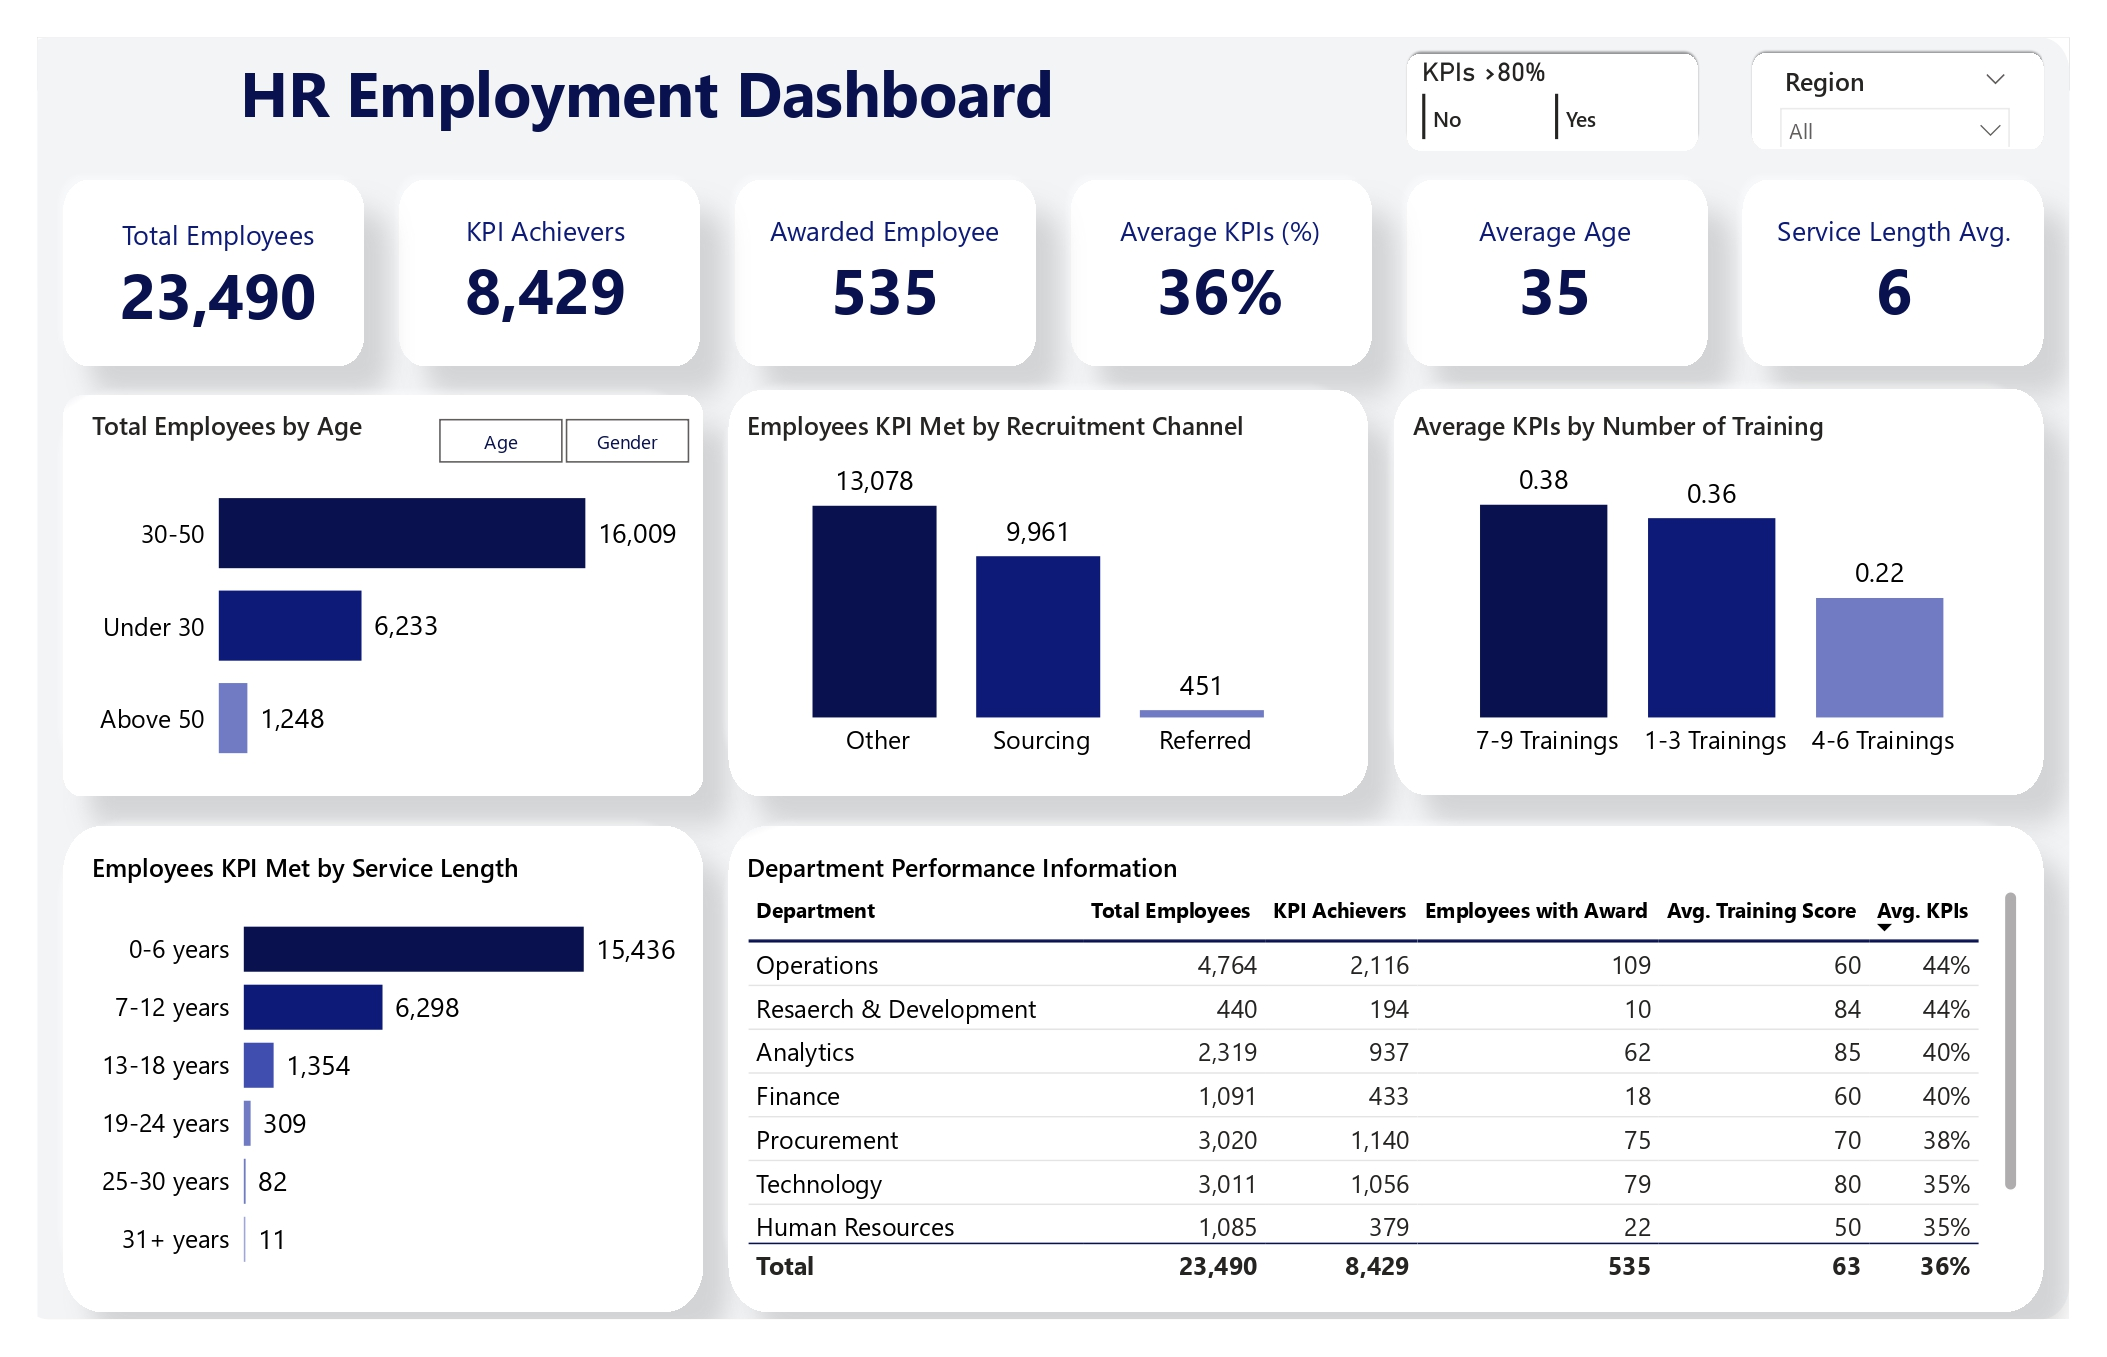

Layout of this report page (visuals, bound fields, positions):
{"tool":"powerbi","page":{"name":"Page 1","canvas":[1300,820],"ordinal":0},"visuals":[{"type":"barChart","fields":{"Category":["HR DATA CLEAN.Age Group"],"Y":["All Measures.Total Employees"]},"box":[29.8,237.1,384.7,252],"z":0},{"type":"slicer","fields":{"Values":["Employee Demographic.Employee Demographic"]},"box":[231.1,237.1,210.2,41.7],"z":1000},{"type":"tableEx","title":"Department Performance Information","fields":{"Values":["HR DATA CLEAN.Department","All Measures.Total Employees","All Measures.Employees with KPI>80%","All Measures.Employees with Award","All Measures.Average Training Score","All Measures.Average KPIs"]},"box":[448.8,520.3,823,283.3],"z":2000},{"type":"columnChart","title":"Employees KPI Met by Recruitment Channel","fields":{"Category":["HR DATA CLEAN.Recruitment Channel"],"Y":["All Measures.Total Employees"]},"box":[448.8,237.1,387.6,232.6],"z":3000},{"type":"barChart","title":"Employees KPI Met by Service Length","fields":{"Category":["HR DATA CLEAN.Service Length Range"],"Y":["All Measures.Total Employees"]},"box":[29.8,520.3,384.7,283.3],"z":4000},{"type":"columnChart","title":"Average KPIs by Number of Training ","fields":{"Category":["HR DATA CLEAN.No Training Range"],"Y":["Avg(HR DATA CLEAN.KPIs Met>80%)"]},"box":[875.2,237.1,396.6,232.6],"z":5000},{"type":"cardVisual","fields":{"Data":["All Measures.Total Employees"]},"box":[29.8,95.4,171.5,113.3],"z":6000},{"type":"cardVisual","fields":{"Data":["All Measures.Employees with KPI>80%"]},"box":[235.6,89.5,178.9,119.3],"z":7000},{"type":"cardVisual","fields":{"Data":["All Measures.Employees with Award"]},"box":[448.8,89.5,186.4,119.3],"z":8000},{"type":"cardVisual","fields":{"Data":["All Measures.Average KPIs (%)"]},"box":[666.4,89.5,181.9,119.3],"z":9000},{"type":"cardVisual","fields":{"Data":["All Measures.Average Age"]},"box":[881.1,89.5,180.4,119.3],"z":10000},{"type":"cardVisual","fields":{"Data":["All Measures.Avg. Length of Service"]},"box":[1095.8,89.5,184.9,119.3],"z":11000},{"type":"slicer","fields":{"Values":["HR DATA CLEAN.Region"]},"box":[1104.8,11.9,167,58.1],"z":12000},{"type":"card","fields":{"Values":["All Measures.InteractiveTitle"]},"box":[16.4,0,758.9,70.1],"z":13000},{"type":"advancedSlicerVisual","fields":{"Values":["HR DATA CLEAN.KPIs >80%"]},"box":[881.1,11.9,180.4,58.1],"z":14000}]}

Visuals, with their boxes on the page's 1300x820 design canvas (x1, y1, x2, y2). These are canvas units, not pixel positions in the 2107x1357 screenshot, which may show the page scaled, cropped or inside an application window:
barChart - HR DATA CLEAN.Age Group x All Measures.Total Employees: BBox(30, 237, 414, 489)
slicer - Employee Demographic.Employee Demographic: BBox(231, 237, 441, 279)
"Department Performance Information" tableEx: BBox(449, 520, 1272, 804)
"Employees KPI Met by Recruitment Channel" columnChart: BBox(449, 237, 836, 470)
"Employees KPI Met by Service Length" barChart: BBox(30, 520, 414, 804)
"Average KPIs by Number of Training " columnChart: BBox(875, 237, 1272, 470)
cardVisual - All Measures.Total Employees: BBox(30, 95, 201, 209)
cardVisual - All Measures.Employees with KPI>80%: BBox(236, 90, 414, 209)
cardVisual - All Measures.Employees with Award: BBox(449, 90, 635, 209)
cardVisual - All Measures.Average KPIs (%): BBox(666, 90, 848, 209)
cardVisual - All Measures.Average Age: BBox(881, 90, 1062, 209)
cardVisual - All Measures.Avg. Length of Service: BBox(1096, 90, 1281, 209)
slicer - HR DATA CLEAN.Region: BBox(1105, 12, 1272, 70)
card - All Measures.InteractiveTitle: BBox(16, 0, 775, 70)
advancedSlicerVisual - HR DATA CLEAN.KPIs >80%: BBox(881, 12, 1062, 70)
